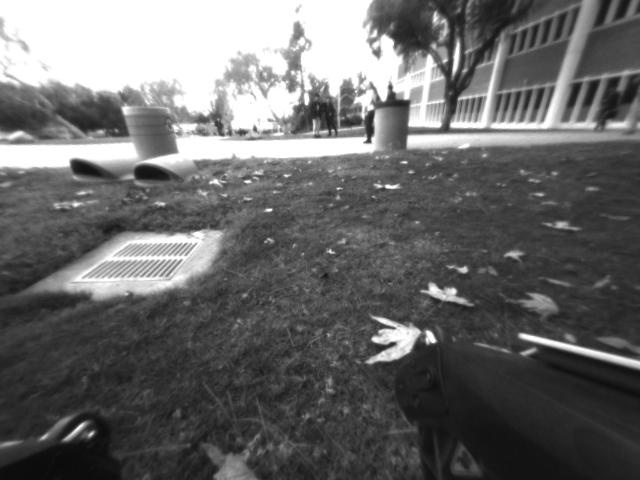trashcan: (118, 104, 180, 162), (370, 96, 411, 153)
